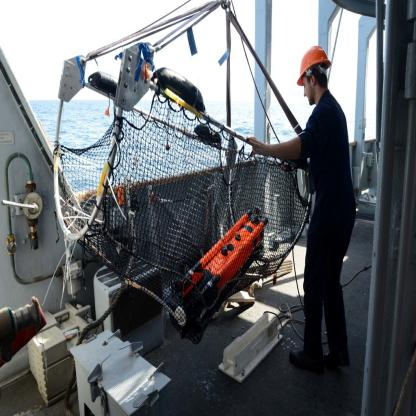Helmet: (296, 46, 332, 86)
